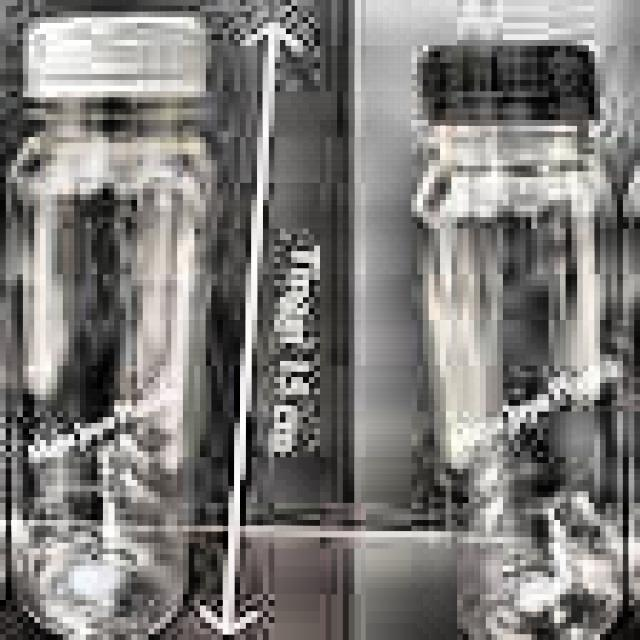plastic: (389, 11, 634, 640), (6, 11, 240, 640)
